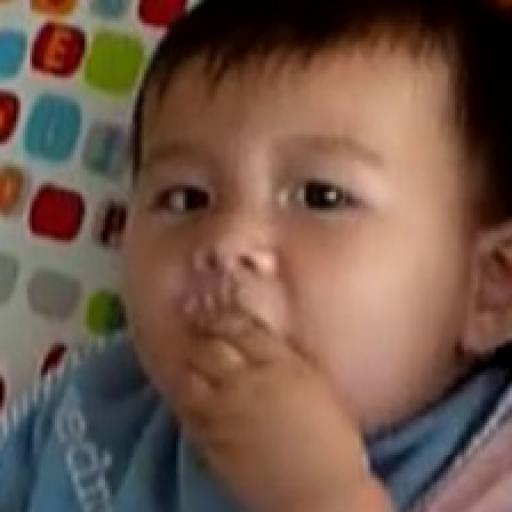Autism: (84, 0, 510, 457)
